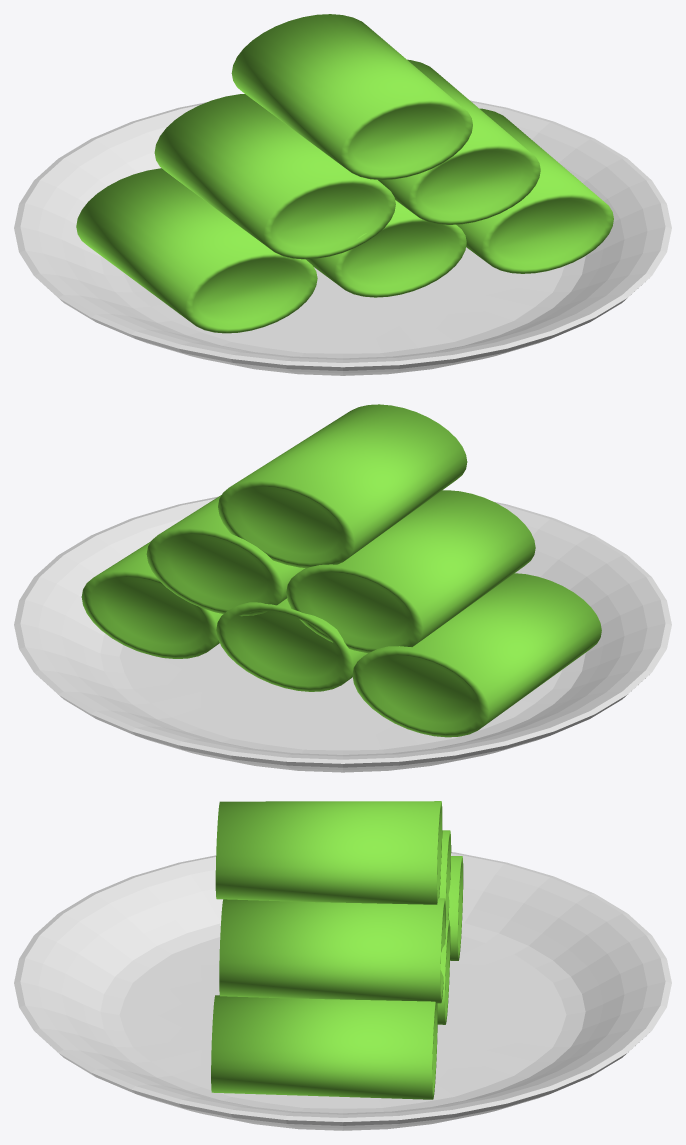
The model's file is DADAR GULUNG.fbx.
3 renders of one model, top to bottom at view 1: azimuth 30°, elevation 25°; view 2: azimuth 150°, elevation 25°; view 3: azimuth 270°, elevation 25°, orthographic.
Visible parts, largest first — view 1: Cylinder, Cylinder.005, Cylinder.003, Cylinder.016, Cylinder.002, Cylinder.004, Cylinder.001; view 2: Cylinder, Cylinder.005, Cylinder.016, Cylinder.003, Cylinder.004, Cylinder.002, Cylinder.001; view 3: Cylinder, Cylinder.005, Cylinder.002, Cylinder.004, Cylinder.016, Cylinder.001, Cylinder.003.
Part boxes in pixels (x1,y1,x2,y2): Cylinder: (14, 100, 671, 375); Cylinder.005: (231, 14, 472, 179); Cylinder.003: (154, 94, 395, 259); Cylinder.016: (76, 168, 317, 333); Cylinder.002: (456, 108, 613, 273); Cylinder.004: (378, 59, 540, 224); Cylinder.001: (306, 200, 466, 297); Cylinder: (14, 496, 671, 772); Cylinder.005: (218, 404, 467, 568); Cylinder.016: (352, 573, 601, 737); Cylinder.003: (286, 490, 535, 653); Cylinder.004: (146, 495, 305, 616); Cylinder.002: (81, 541, 223, 658); Cylinder.001: (216, 598, 367, 691); Cylinder: (14, 852, 671, 1130); Cylinder.005: (215, 801, 442, 904); Cylinder.002: (211, 995, 437, 1099); Cylinder.004: (219, 898, 445, 1003); Cylinder.016: (448, 856, 463, 960); Cylinder.001: (437, 920, 450, 1024); Cylinder.003: (439, 830, 451, 919).
Bounding box in the file's own units: 231 × 86.35 × 231.
